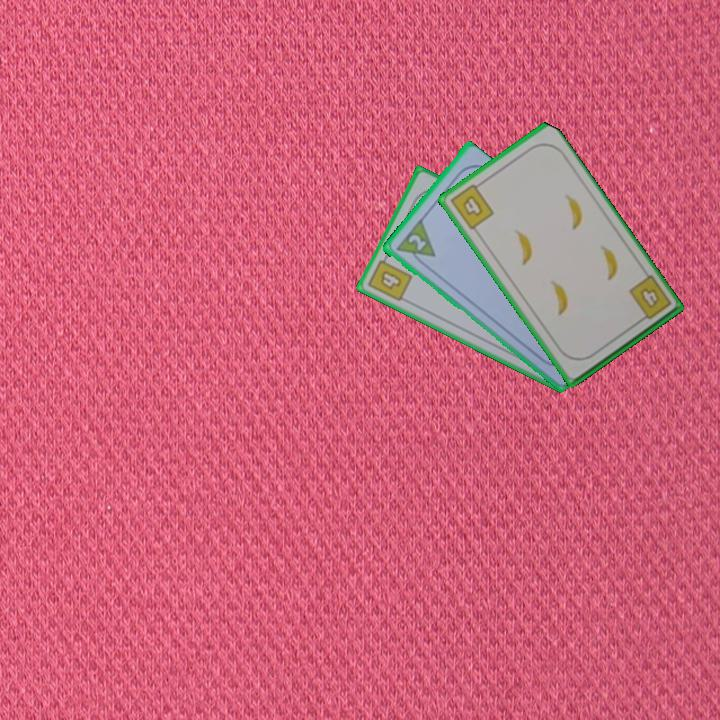2p: (391, 217, 438, 270)
4b: (446, 178, 497, 233), (364, 250, 415, 304), (625, 272, 674, 326)
